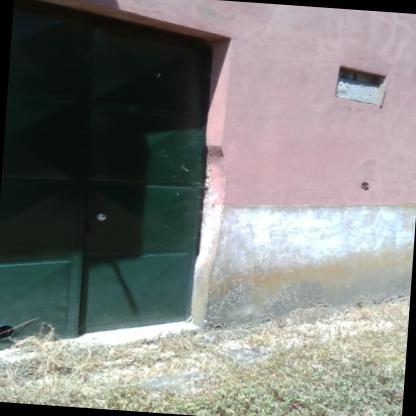closed: (0, 0, 246, 343)
